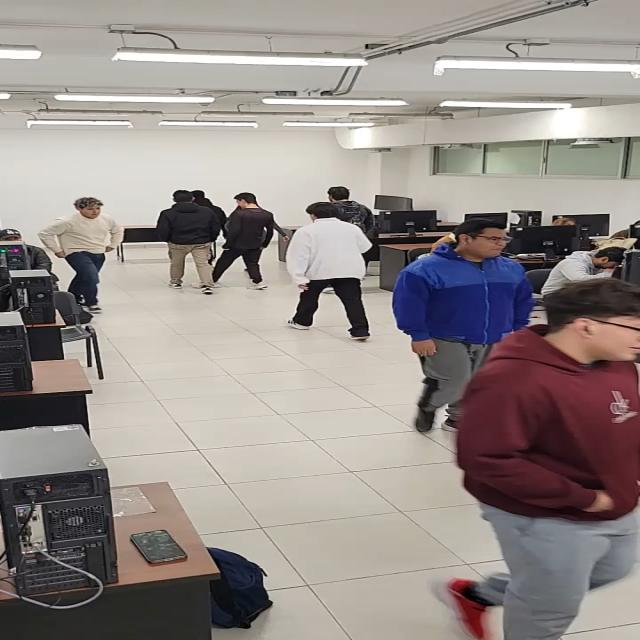Persona: (441, 279, 639, 640), (392, 216, 521, 434), (277, 200, 382, 343), (39, 191, 126, 314), (152, 188, 220, 294), (225, 184, 277, 297)
